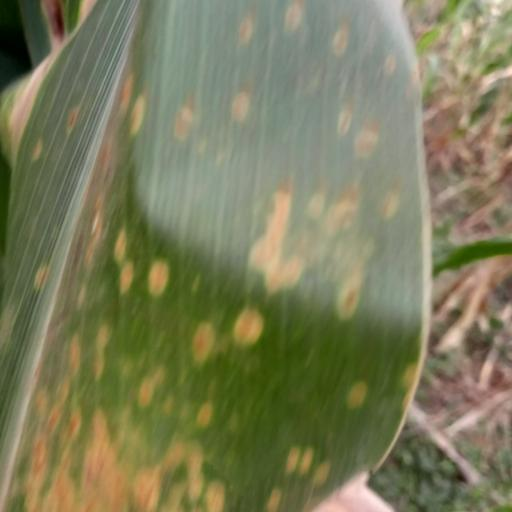Corn_Rust: (0, 0, 440, 512)
